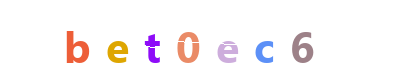0: (158, 0, 238, 80)
6: (262, 0, 342, 80)
B: (77, 0, 157, 80)
C: (223, 0, 303, 80)
E: (89, 0, 169, 80), (173, 0, 253, 80)
T: (112, 0, 192, 80)
